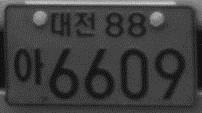0: (118, 47, 150, 102)
6: (47, 46, 80, 100), (84, 47, 116, 100)
8: (127, 11, 148, 38), (104, 11, 124, 38)
9: (154, 47, 187, 102)
대전_H: (48, 10, 96, 39)
아: (12, 47, 47, 86)
